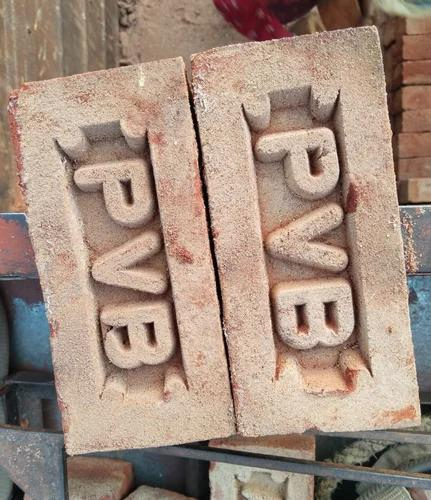brick: (194, 25, 421, 436), (15, 55, 235, 455)
